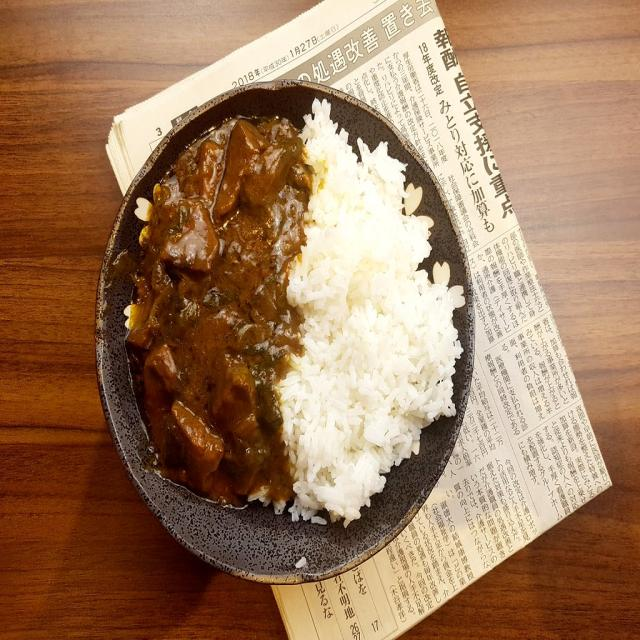Wet: (123, 100, 455, 532)
